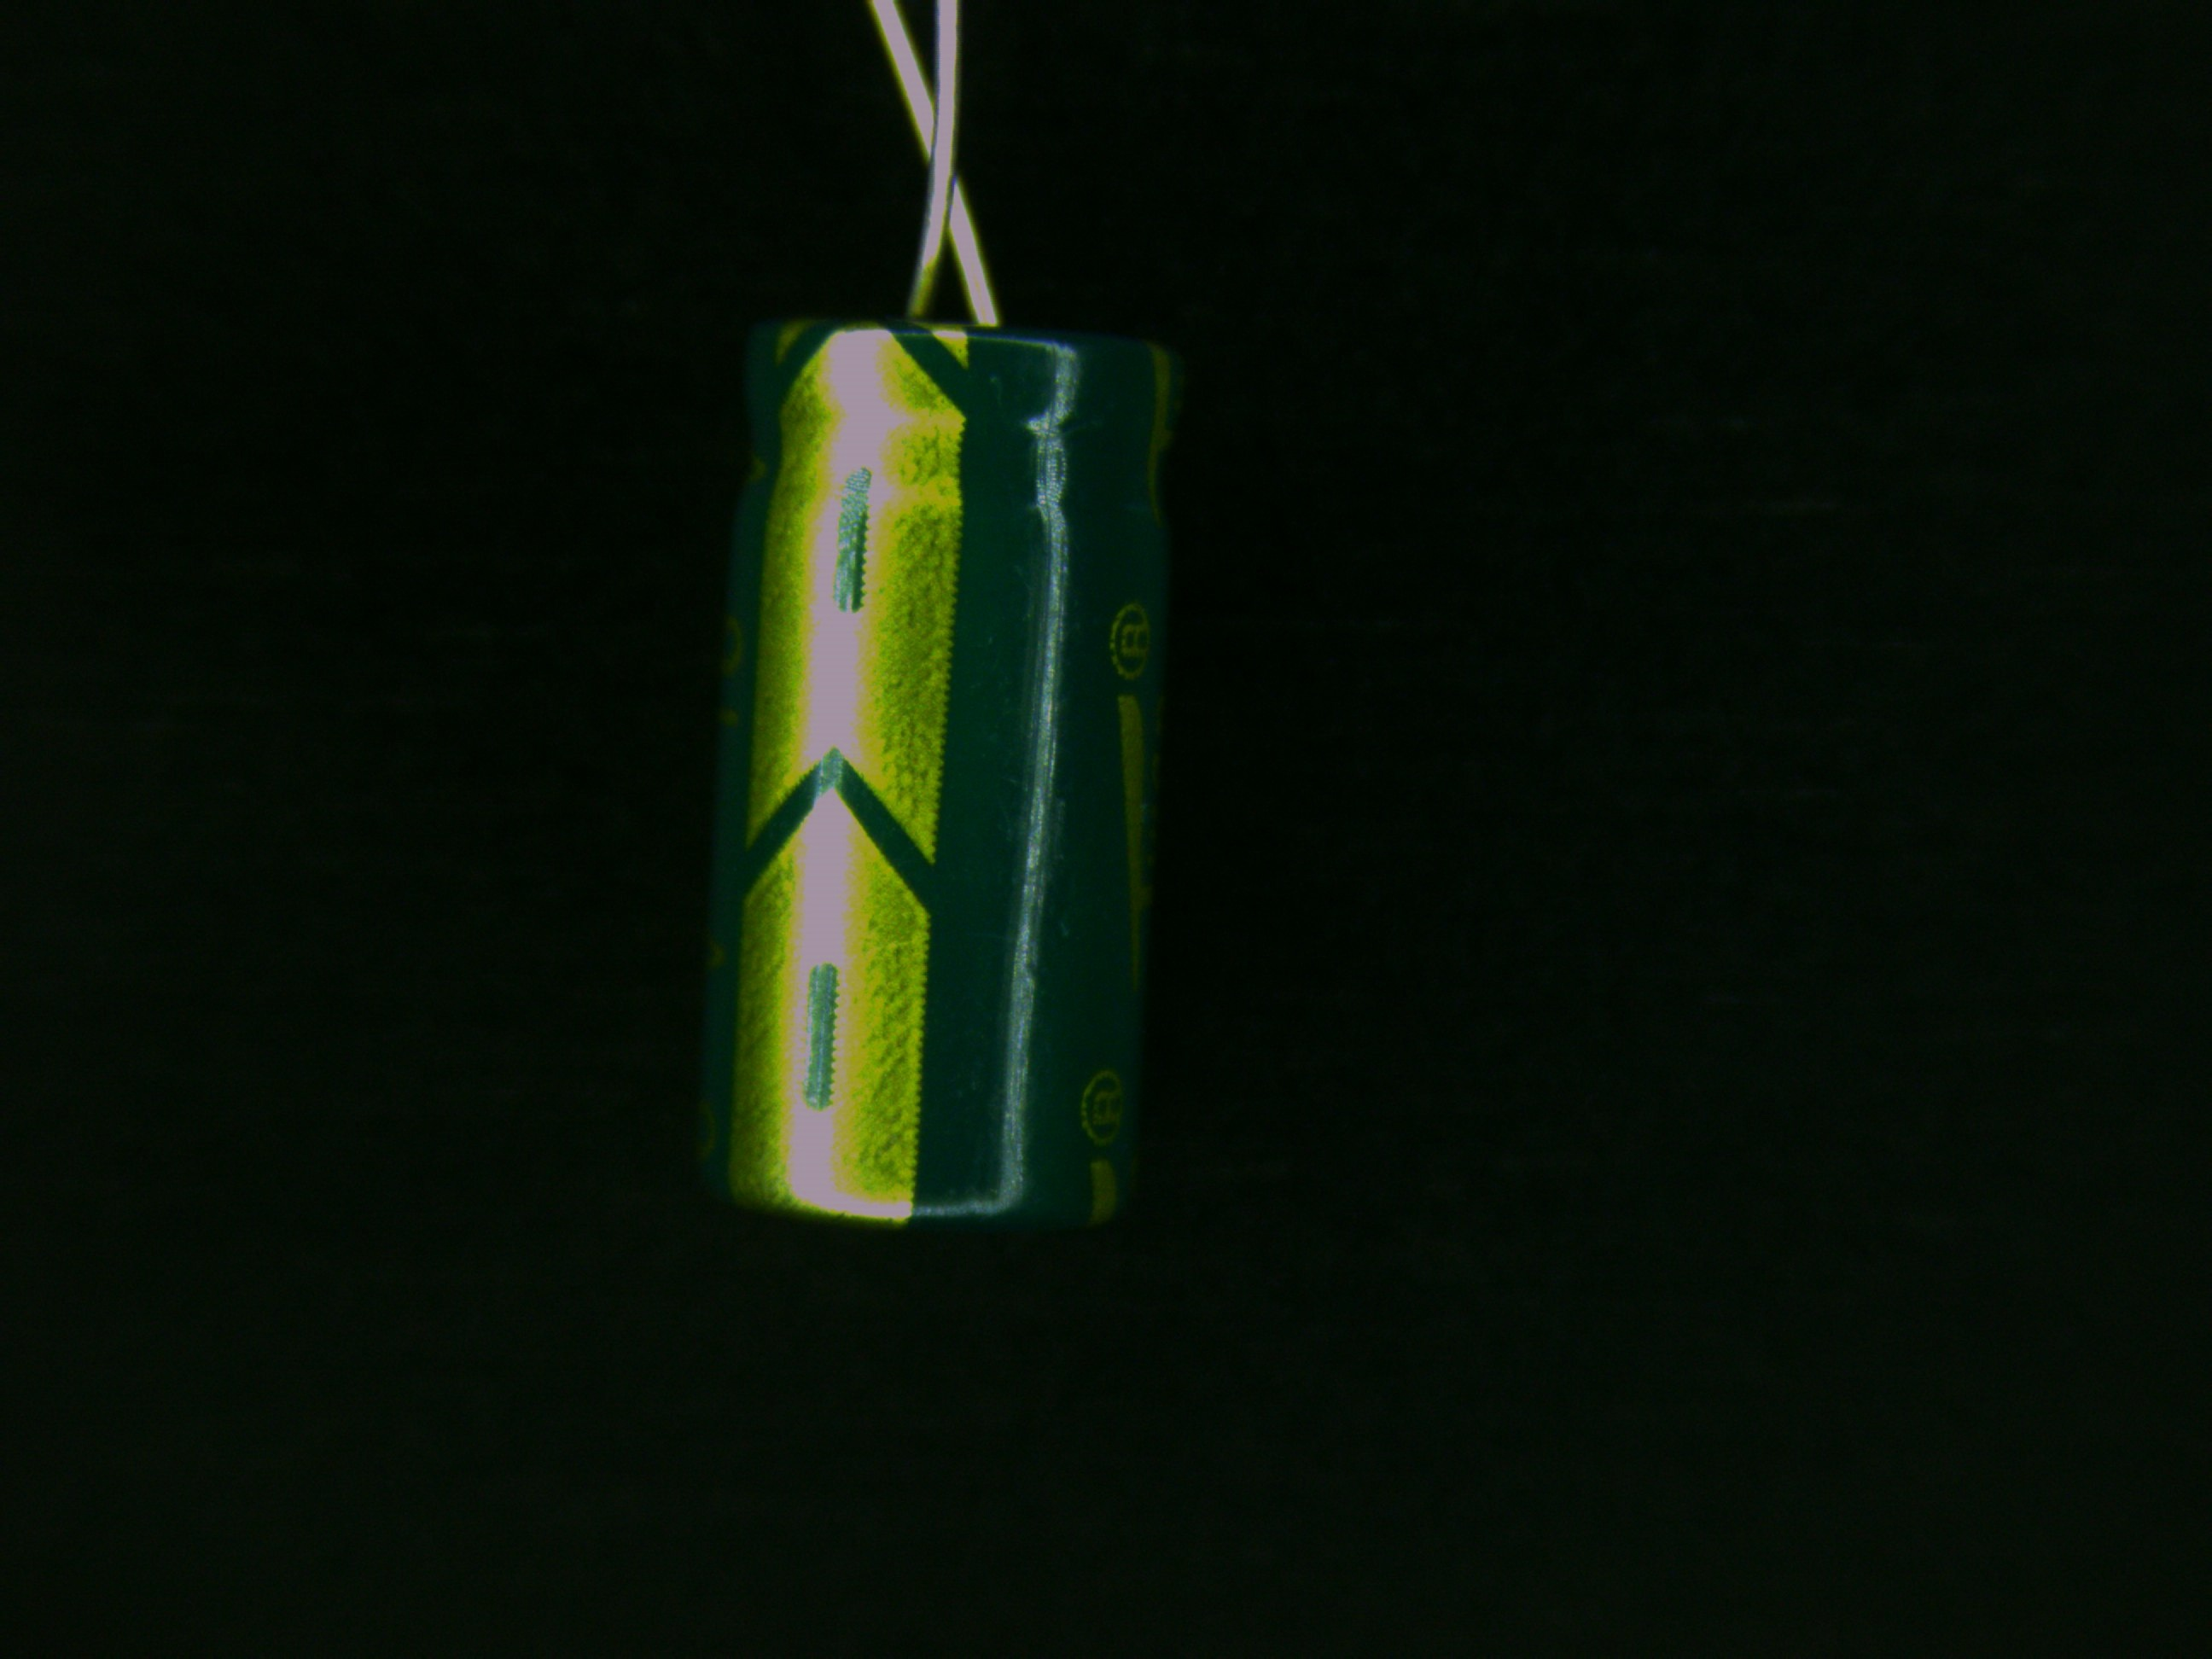c1: (691, 230, 1188, 1232)
